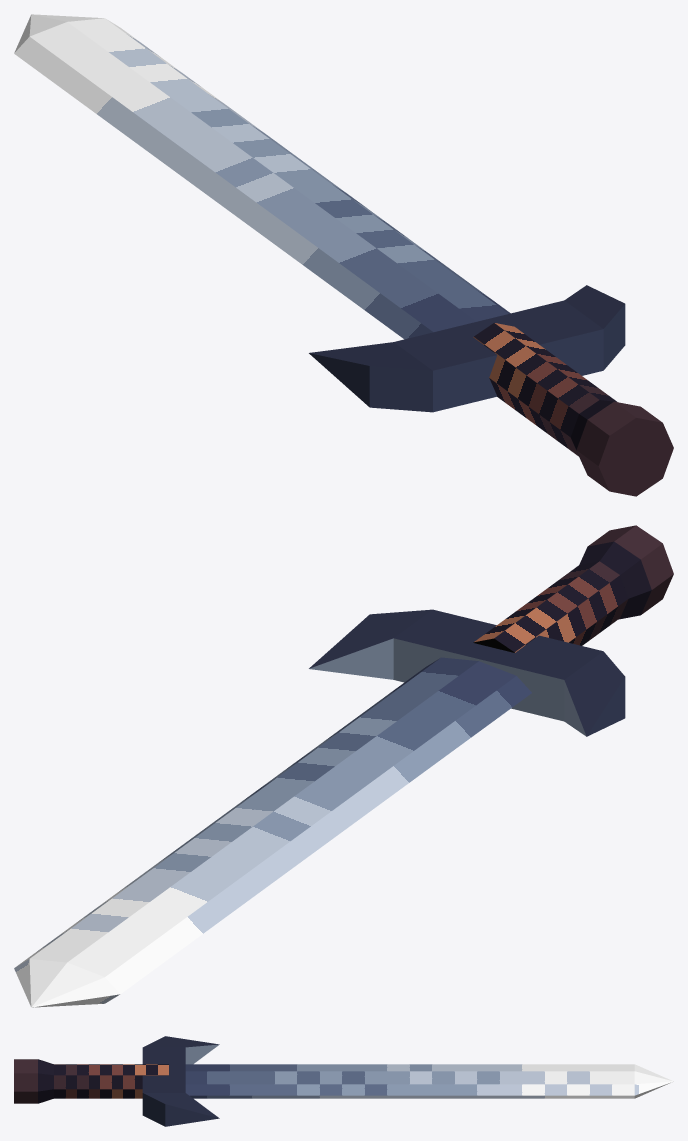
Rendered from shortsword.glb.
The picture shows the model from 3 angles, top to bottom: view 1: azimuth 30°, elevation 25°; view 2: azimuth 150°, elevation 25°; view 3: azimuth 270°, elevation 25°; orthographic projection. The views are drawn at different scales.
Parts seen in each view (by area): view 1: Sword; view 2: Sword; view 3: Sword.
Part boxes in pixels (x1,y1,x2,y2): Sword: [14, 14, 673, 496]; Sword: [14, 525, 673, 1007]; Sword: [14, 1036, 673, 1126].
Bounding box in the file's own units: 0.7 × 0.1896 × 2.64.
1 material, 1 textured.
